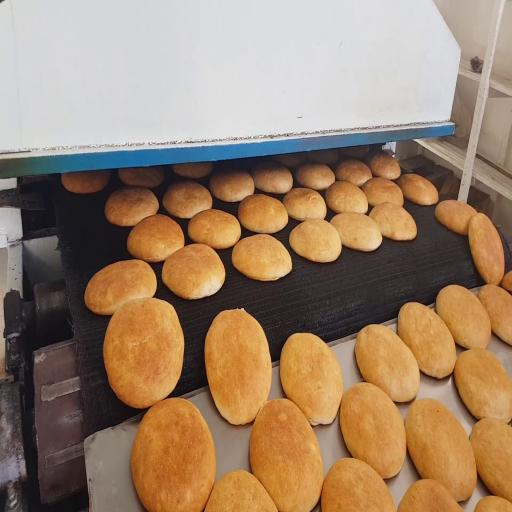bread: (131, 398, 215, 511), (103, 298, 184, 408), (250, 399, 323, 511), (205, 310, 271, 424), (405, 399, 477, 501), (340, 383, 406, 478), (280, 333, 342, 425), (355, 325, 419, 402), (398, 302, 456, 378), (454, 349, 511, 422), (322, 458, 396, 511), (85, 260, 156, 315), (162, 244, 225, 299), (436, 285, 491, 348), (470, 419, 511, 501), (205, 470, 277, 511), (232, 234, 291, 281), (127, 214, 184, 262), (468, 213, 504, 284), (289, 220, 341, 262), (188, 209, 241, 249), (105, 187, 159, 226), (398, 479, 462, 511), (478, 285, 511, 345), (238, 194, 288, 233), (331, 213, 382, 251), (369, 202, 417, 240), (163, 181, 212, 218), (435, 200, 476, 235), (283, 188, 326, 220), (210, 171, 254, 202), (251, 162, 293, 193), (326, 182, 367, 213), (398, 174, 438, 205), (61, 170, 110, 194), (362, 178, 403, 206), (296, 164, 335, 190), (335, 159, 371, 186), (119, 167, 164, 188), (368, 153, 401, 179), (173, 162, 213, 179), (475, 496, 511, 511), (306, 149, 338, 164), (273, 153, 305, 167), (340, 145, 369, 158), (500, 270, 512, 293)
